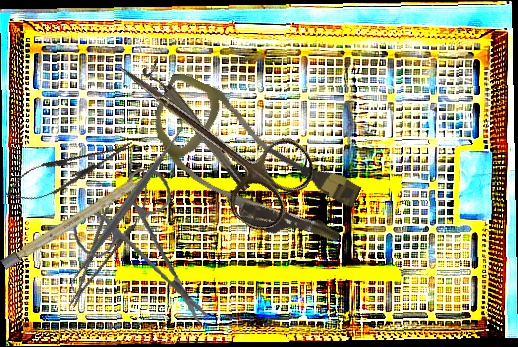Cannula: (129, 69, 374, 261)
Fixation Ring: (140, 58, 253, 198)
Iris Scissors: (87, 31, 325, 241), (62, 160, 229, 325)
Needle Holder: (53, 161, 163, 318), (0, 129, 140, 212)
Scalpel Handle: (0, 167, 156, 270)
Spatula Surgical: (58, 115, 196, 293)
